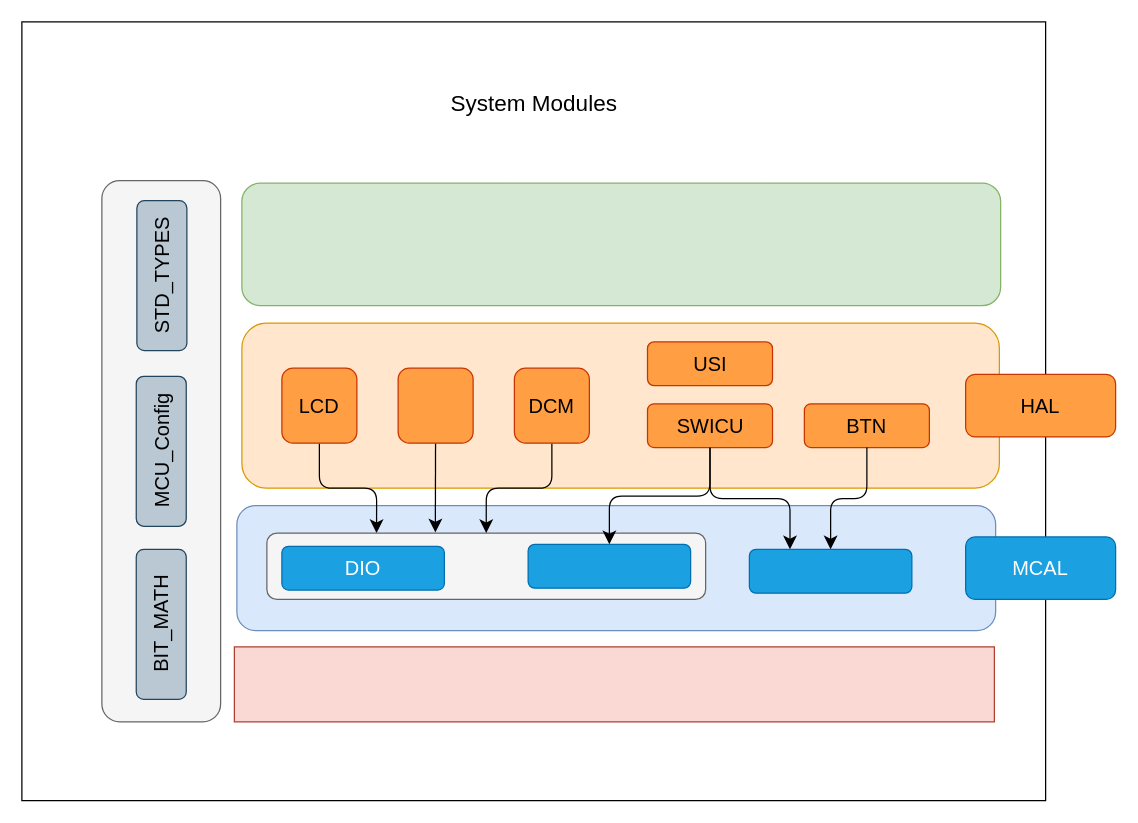
The diagram is 1138 pixels wide and 823 high, and some of its shapes have lost their labels. Each missing label, with the box of its shape:
Application Layer: (241, 182, 1001, 306)
EXI: (748, 548, 912, 593)
KPD: (397, 367, 473, 443)
Microcontroller: (233, 646, 994, 722)
TMR: (527, 543, 691, 588)
